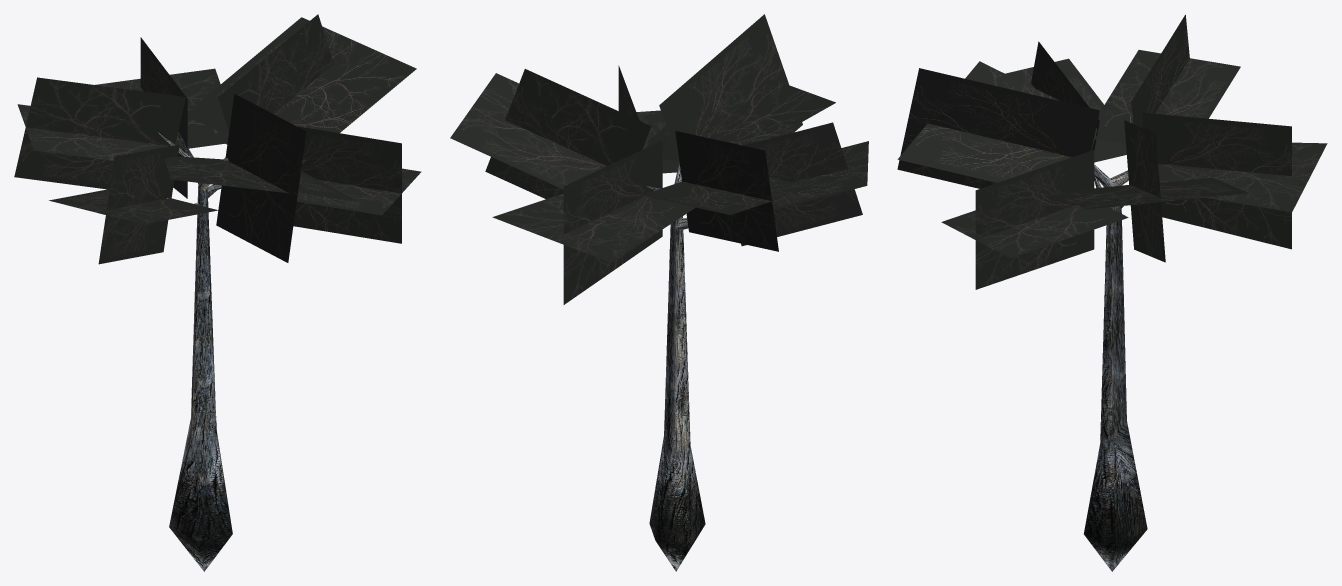
File: decd_scorched_massassi_l2.fbx
The picture shows the model from 3 angles, left to right: view 1: azimuth 30°, elevation 25°; view 2: azimuth 150°, elevation 25°; view 3: azimuth 270°, elevation 25°; orthographic projection. The views are drawn at different scales.
Visible parts, largest first — view 1: mesh_node; view 2: mesh_node; view 3: mesh_node.
Part boxes in pixels (x1,y1,x2,y2): mesh_node: (14,14,421,571); mesh_node: (450,14,868,571); mesh_node: (897,14,1327,571).
Size of the model in its own units: 70.93 by 91.45 by 70.42.
